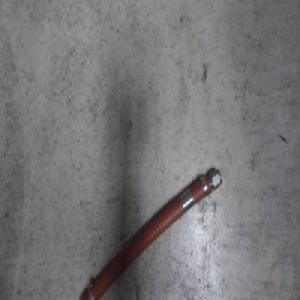Hose: (75, 165, 222, 300)
